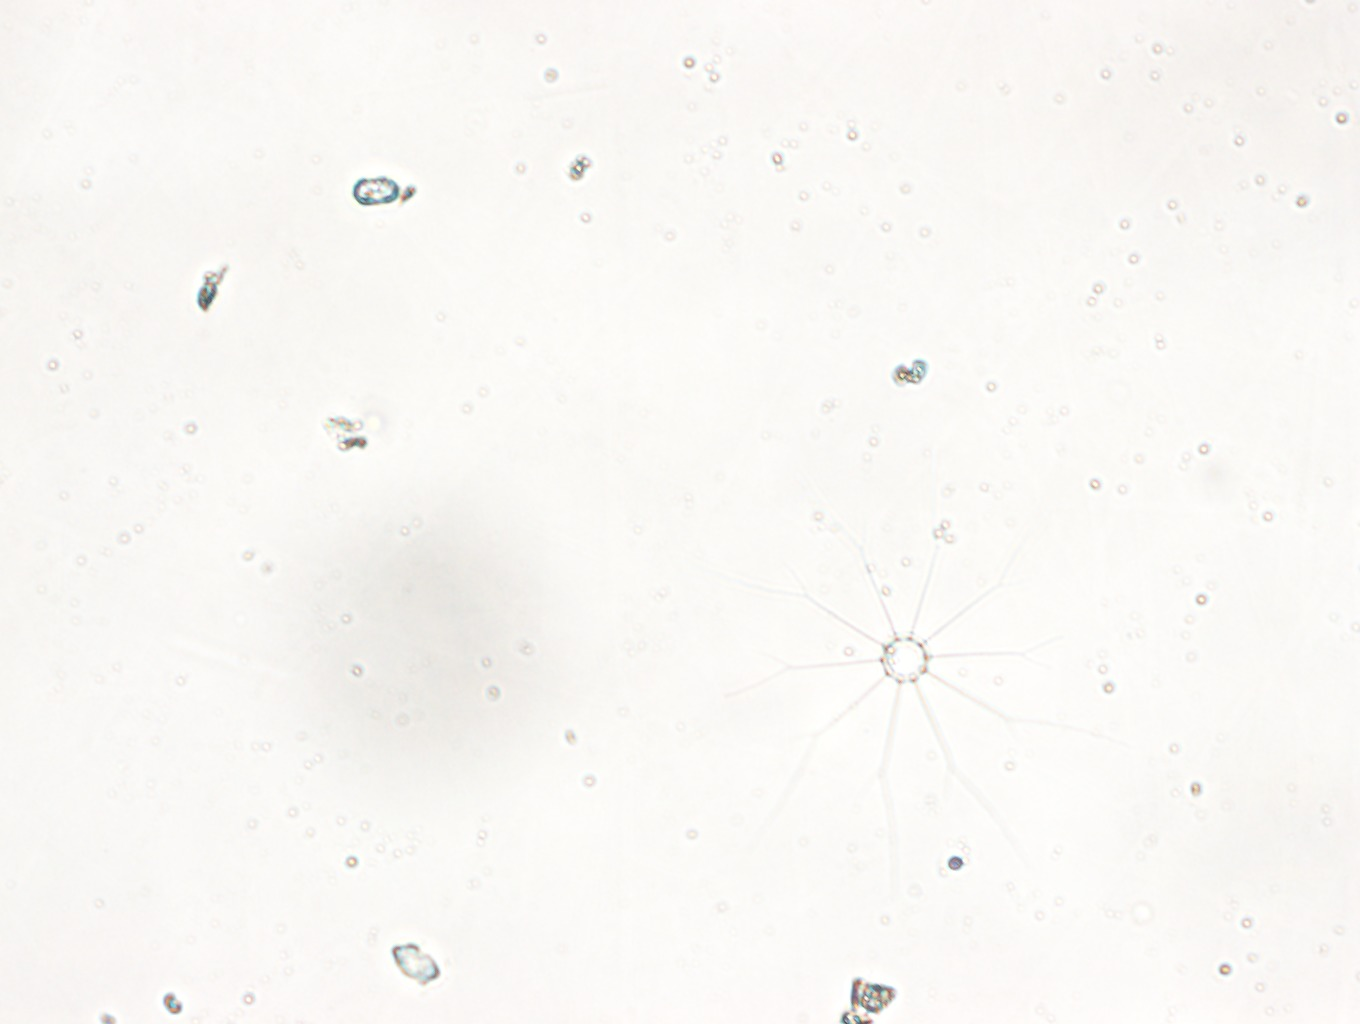bacteriastrum: (720, 488, 1089, 863)
